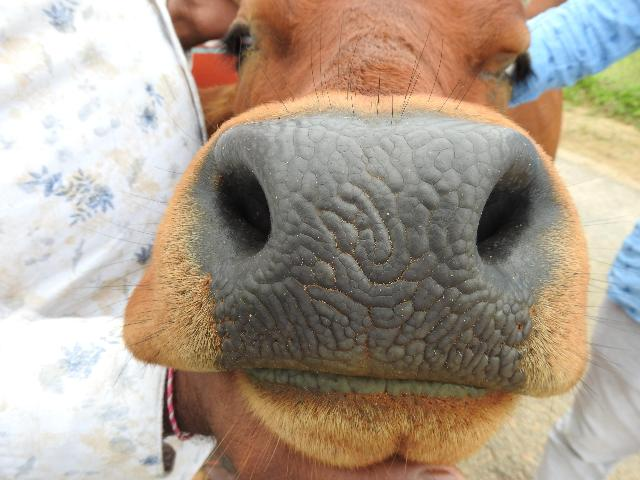Muzzle: (223, 122, 532, 386)
